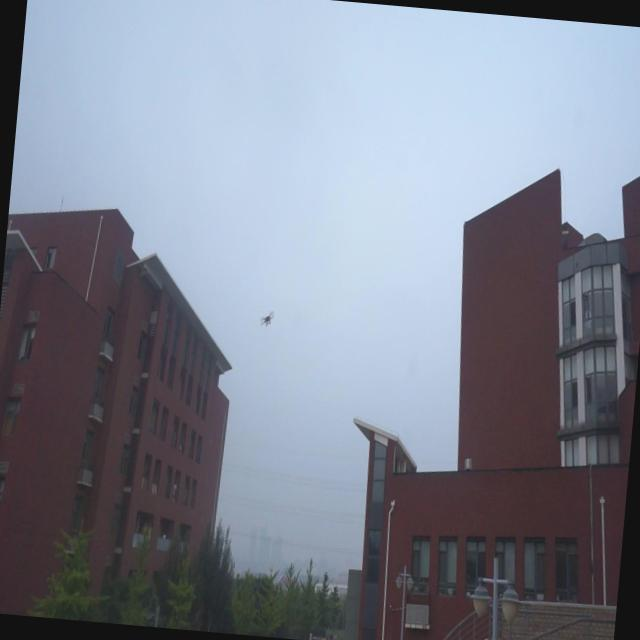drone: (258, 308, 276, 332)
